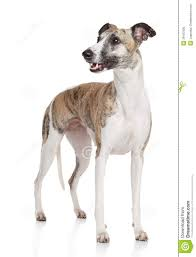dog_stand: (33, 22, 158, 245)
